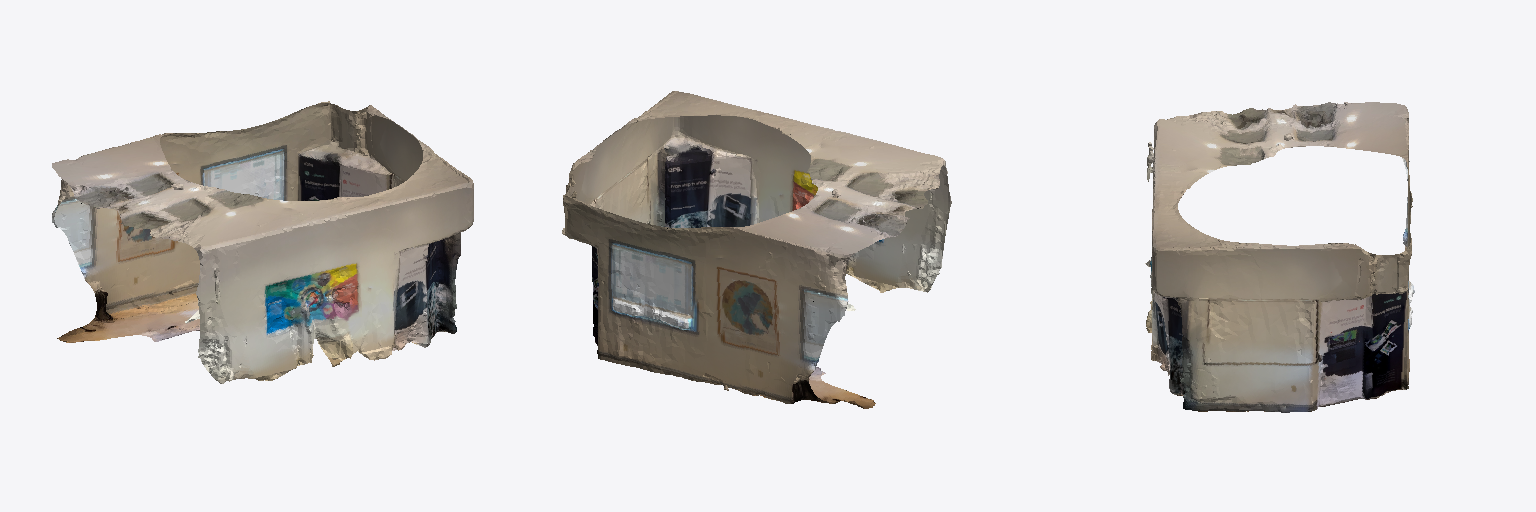
3 renders of one model, left to right at view 1: azimuth 30°, elevation 25°; view 2: azimuth 150°, elevation 25°; view 3: azimuth 270°, elevation 25°, orthographic.
Size of the model in its own units: 6.07 by 3.2 by 4.52.
1 materials, 1 textured.